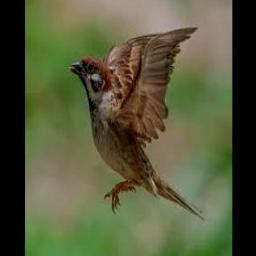Sparrow: (67, 27, 206, 219)
